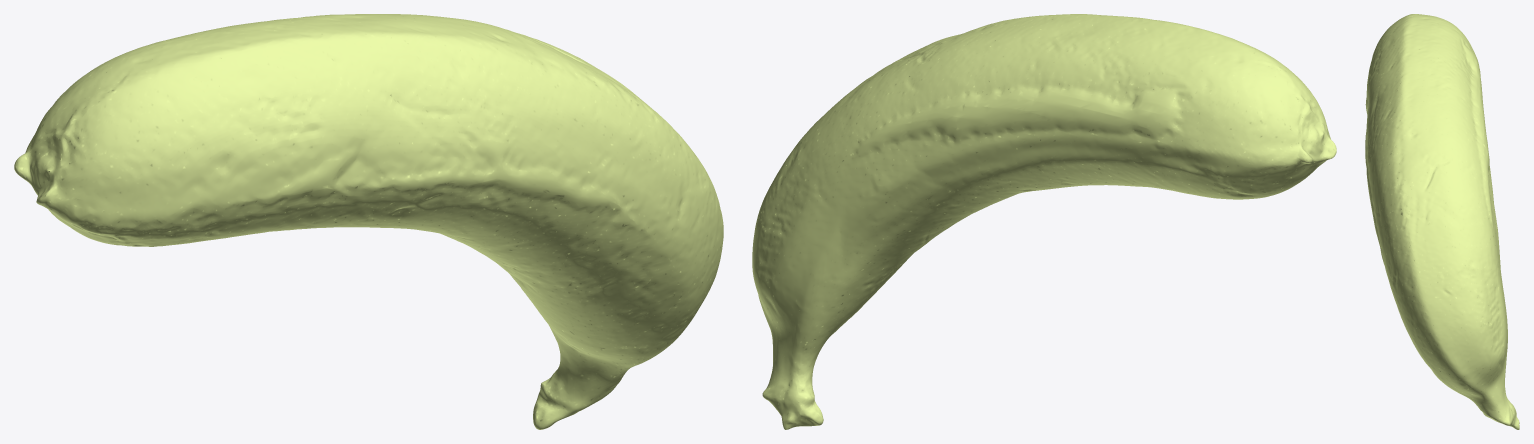
3 renders of one model, left to right at view 1: azimuth 30°, elevation 25°; view 2: azimuth 150°, elevation 25°; view 3: azimuth 270°, elevation 25°, orthographic. The views are drawn at different scales.
Parts seen in each view (by area): view 1: split_parent_0; view 2: split_parent_0; view 3: split_parent_0.
Part boxes in pixels (box(x1,y1,x2,y2)): split_parent_0: box(14, 14, 723, 429); split_parent_0: box(752, 14, 1336, 429); split_parent_0: box(1365, 14, 1519, 429).
Size of the model in its own units: 1 by 0.737 by 0.359.
